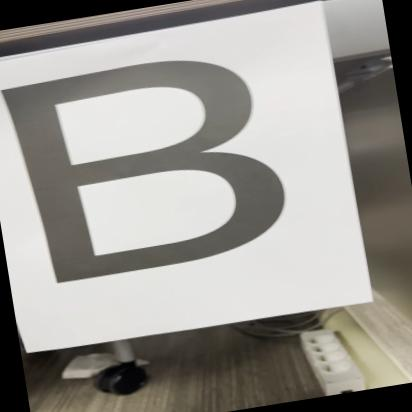seat: (0, 32, 318, 307)
